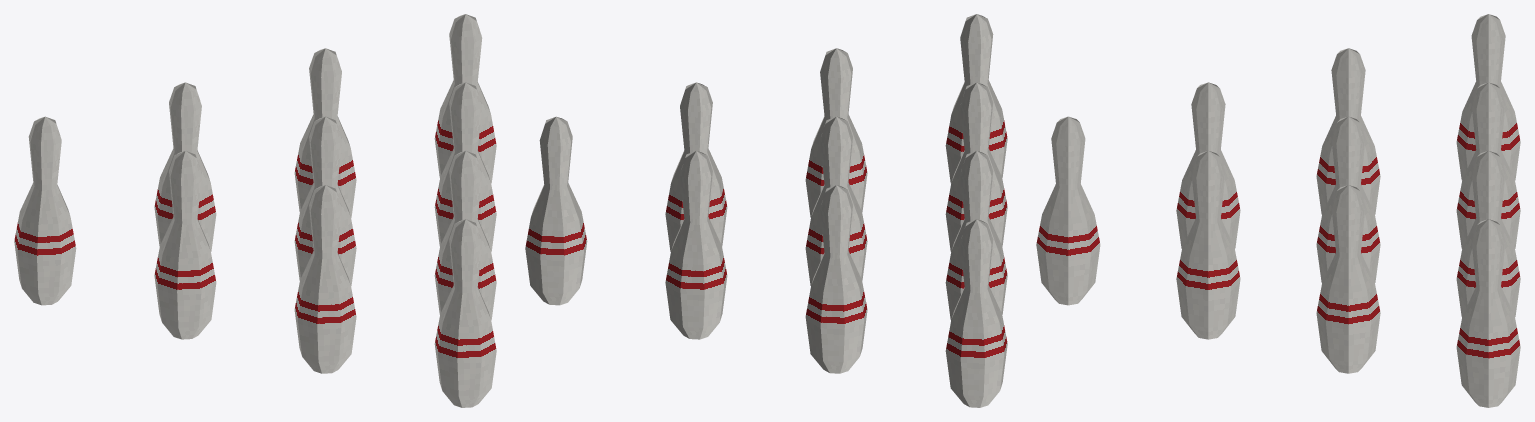
File: pins_standing_l.obj
3 renders of one model, left to right at view 1: azimuth 30°, elevation 25°; view 2: azimuth 150°, elevation 25°; view 3: azimuth 270°, elevation 25°, orthographic.
Visible parts, largest first — view 1: pins_standing_l; view 2: pins_standing_l; view 3: pins_standing_l.
Boxes of the visible parts, box(x1,y1,x2,y2) form: pins_standing_l: box(14, 14, 496, 407); pins_standing_l: box(525, 14, 1007, 407); pins_standing_l: box(1036, 14, 1520, 407).
Size of the model in its own units: 1.04 by 0.381 by 0.9128.
